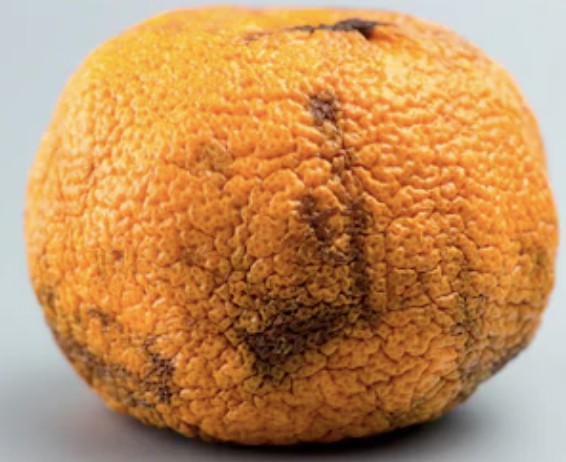rotten_orange: (25, 5, 559, 440)
